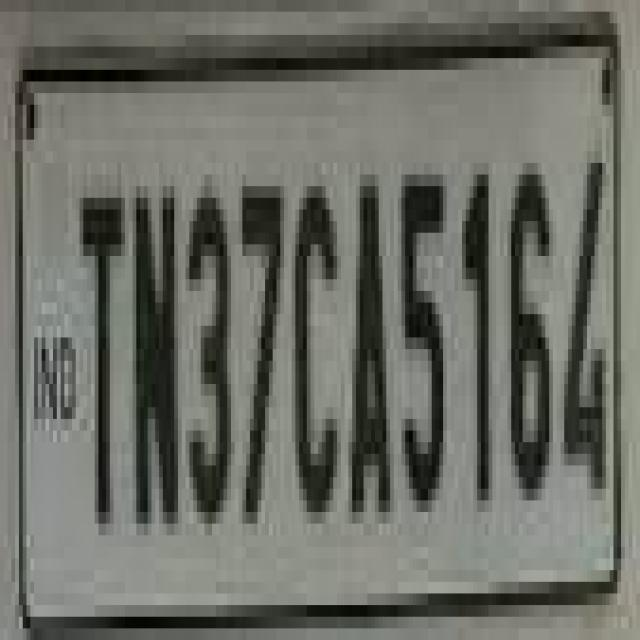license_plate: (0, 23, 613, 639)
